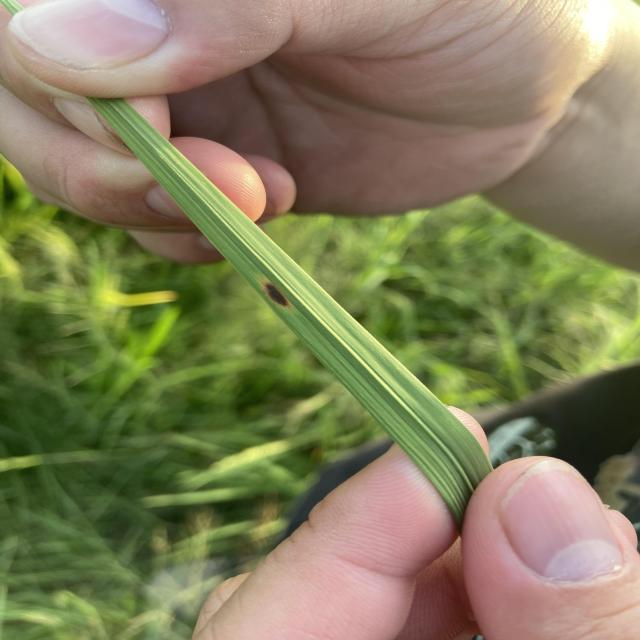Dom nau: (265, 283, 289, 307)
